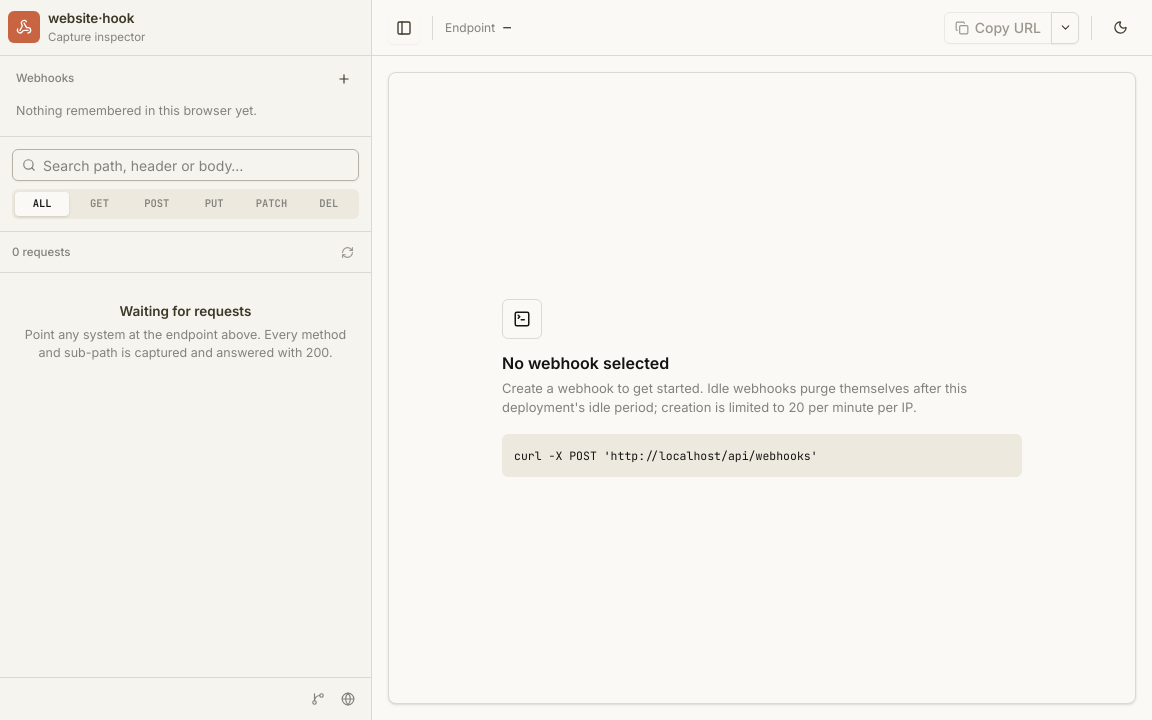
Test case: Inspector integration — create flow › creates a webhook from the new-webhook control and selects it
Step 1. Click the button named "New webhook" → x=344, y=78, box [333,68,355,90]
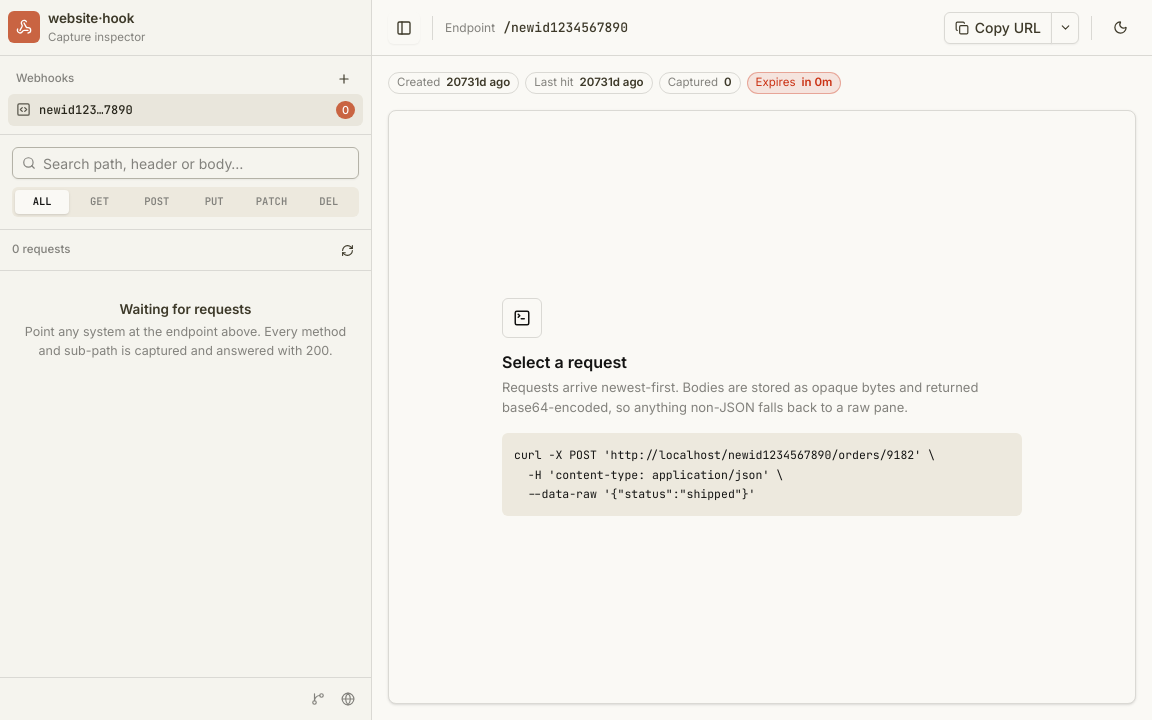
expect the text "newid123…7890" is shown: met, box [39,101,133,119]
expect the text "/newid1234567890" is shown: met, box [503,18,628,37]
